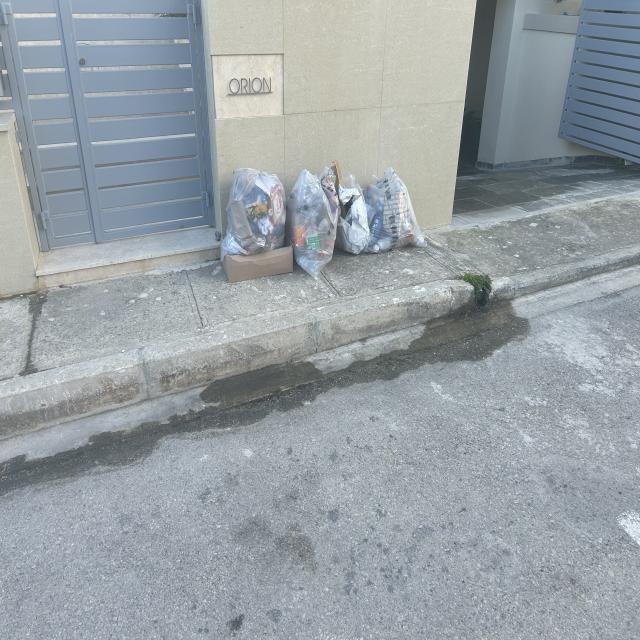grey_bag: (218, 167, 288, 257), (288, 166, 339, 280), (365, 165, 430, 252), (330, 158, 370, 256)
